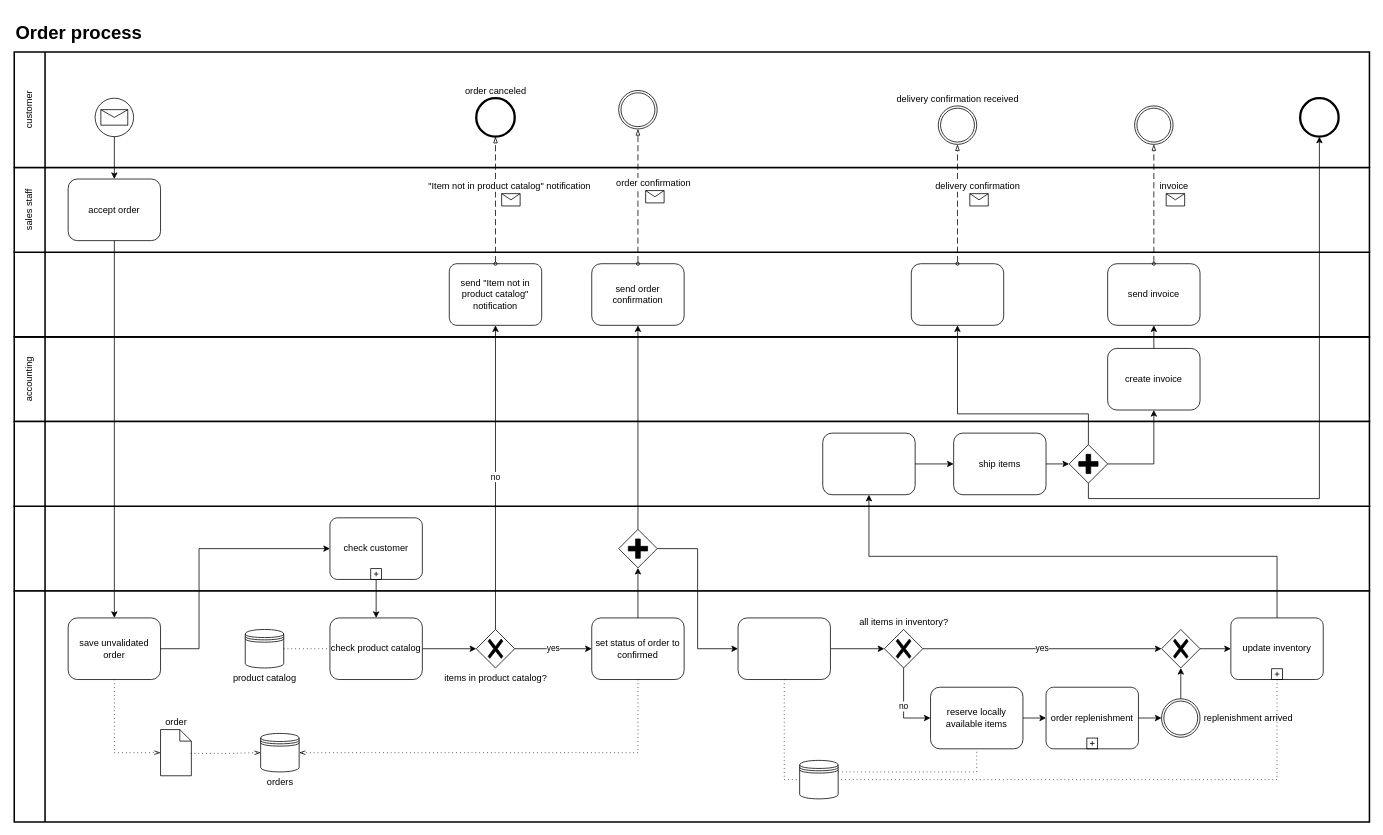
The diagram is 1383 pixels wide and 835 high, and some of its shapes have lost their labels. The shapes that lost their labels are listed below. From the top down, each one's box as (x1, y1, x2, y2) in pixels, then its label:
(94, 97, 134, 137): order request
(618, 90, 657, 129): order confirmation received
(1134, 105, 1173, 144): invoice received
(1299, 97, 1339, 137): order received
(13, 251, 1370, 337): notification service
(911, 263, 1004, 325): send delivery confirmation
(13, 420, 1370, 507): shipping
(822, 432, 915, 495): create shipment
(13, 505, 1370, 591): customer management
(737, 617, 830, 680): check inventory
(13, 590, 1370, 822): local warehouse
(799, 760, 838, 799): inventory
